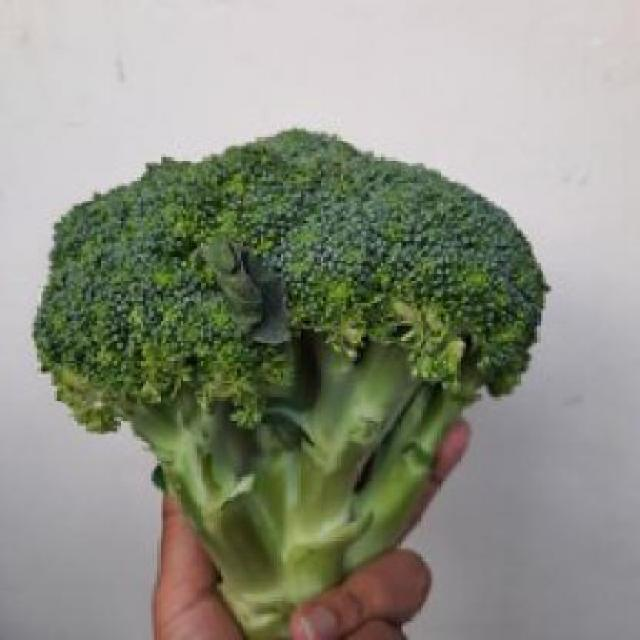broccoli: (19, 128, 552, 634)
